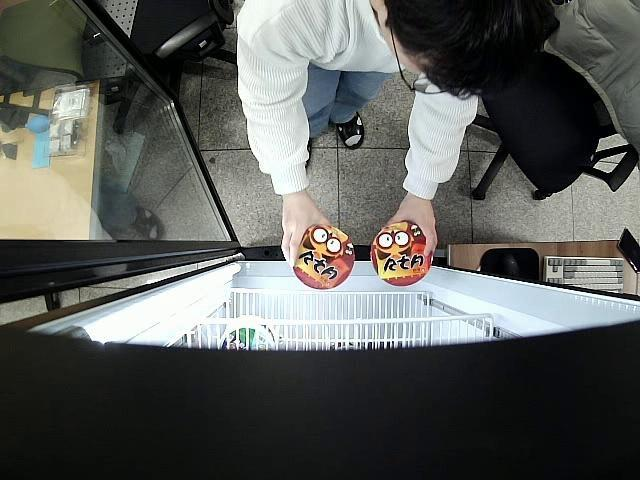05_nuguri_L: (290, 224, 356, 289), (372, 221, 433, 284)
